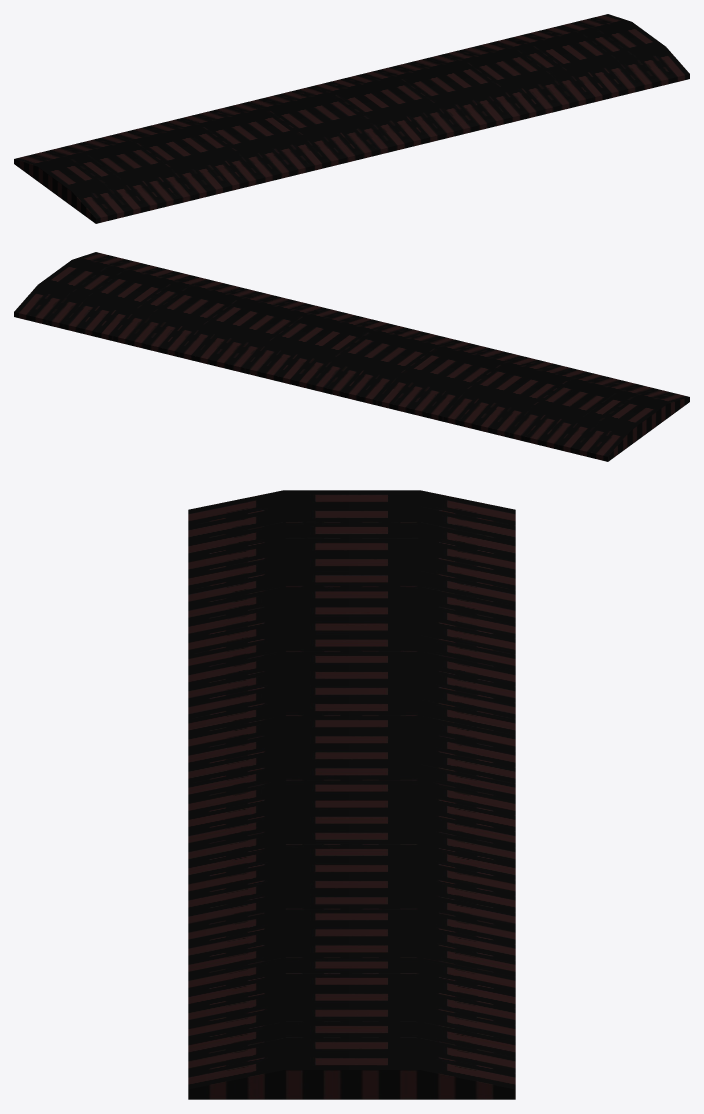
The model's file is Speed breaker 4.fbx.
3 views of the same model, one above another, from view 1: azimuth 30°, elevation 25°; view 2: azimuth 150°, elevation 25°; view 3: azimuth 270°, elevation 25° (orthographic). The views are drawn at different scales.
Parts seen in each view (by area): view 1: Speed breaker 4; view 2: Speed breaker 4; view 3: Speed breaker 4.
Boxes of the visible parts, x1,y1,x2,y2 form: Speed breaker 4: (14,14,689,223); Speed breaker 4: (14,252,689,461); Speed breaker 4: (188,490,515,1099).
Size of the model in its own units: 600 by 14.27 by 143.
